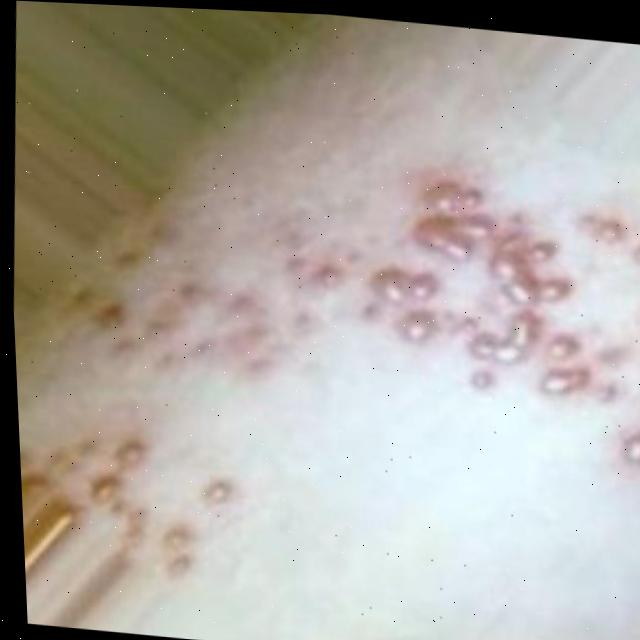Shingles: (71, 144, 640, 448), (52, 421, 250, 577)
